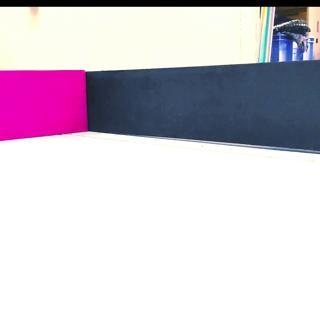xparking: (1, 69, 84, 132)
